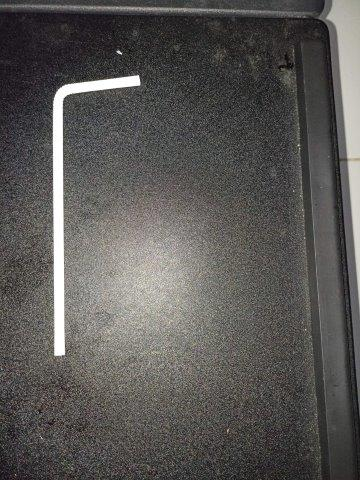sedotan: (52, 74, 140, 357)
